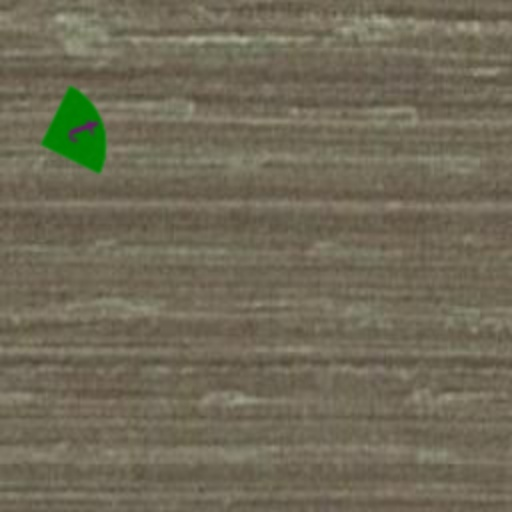quarter_circle: (20, 74, 136, 190)
